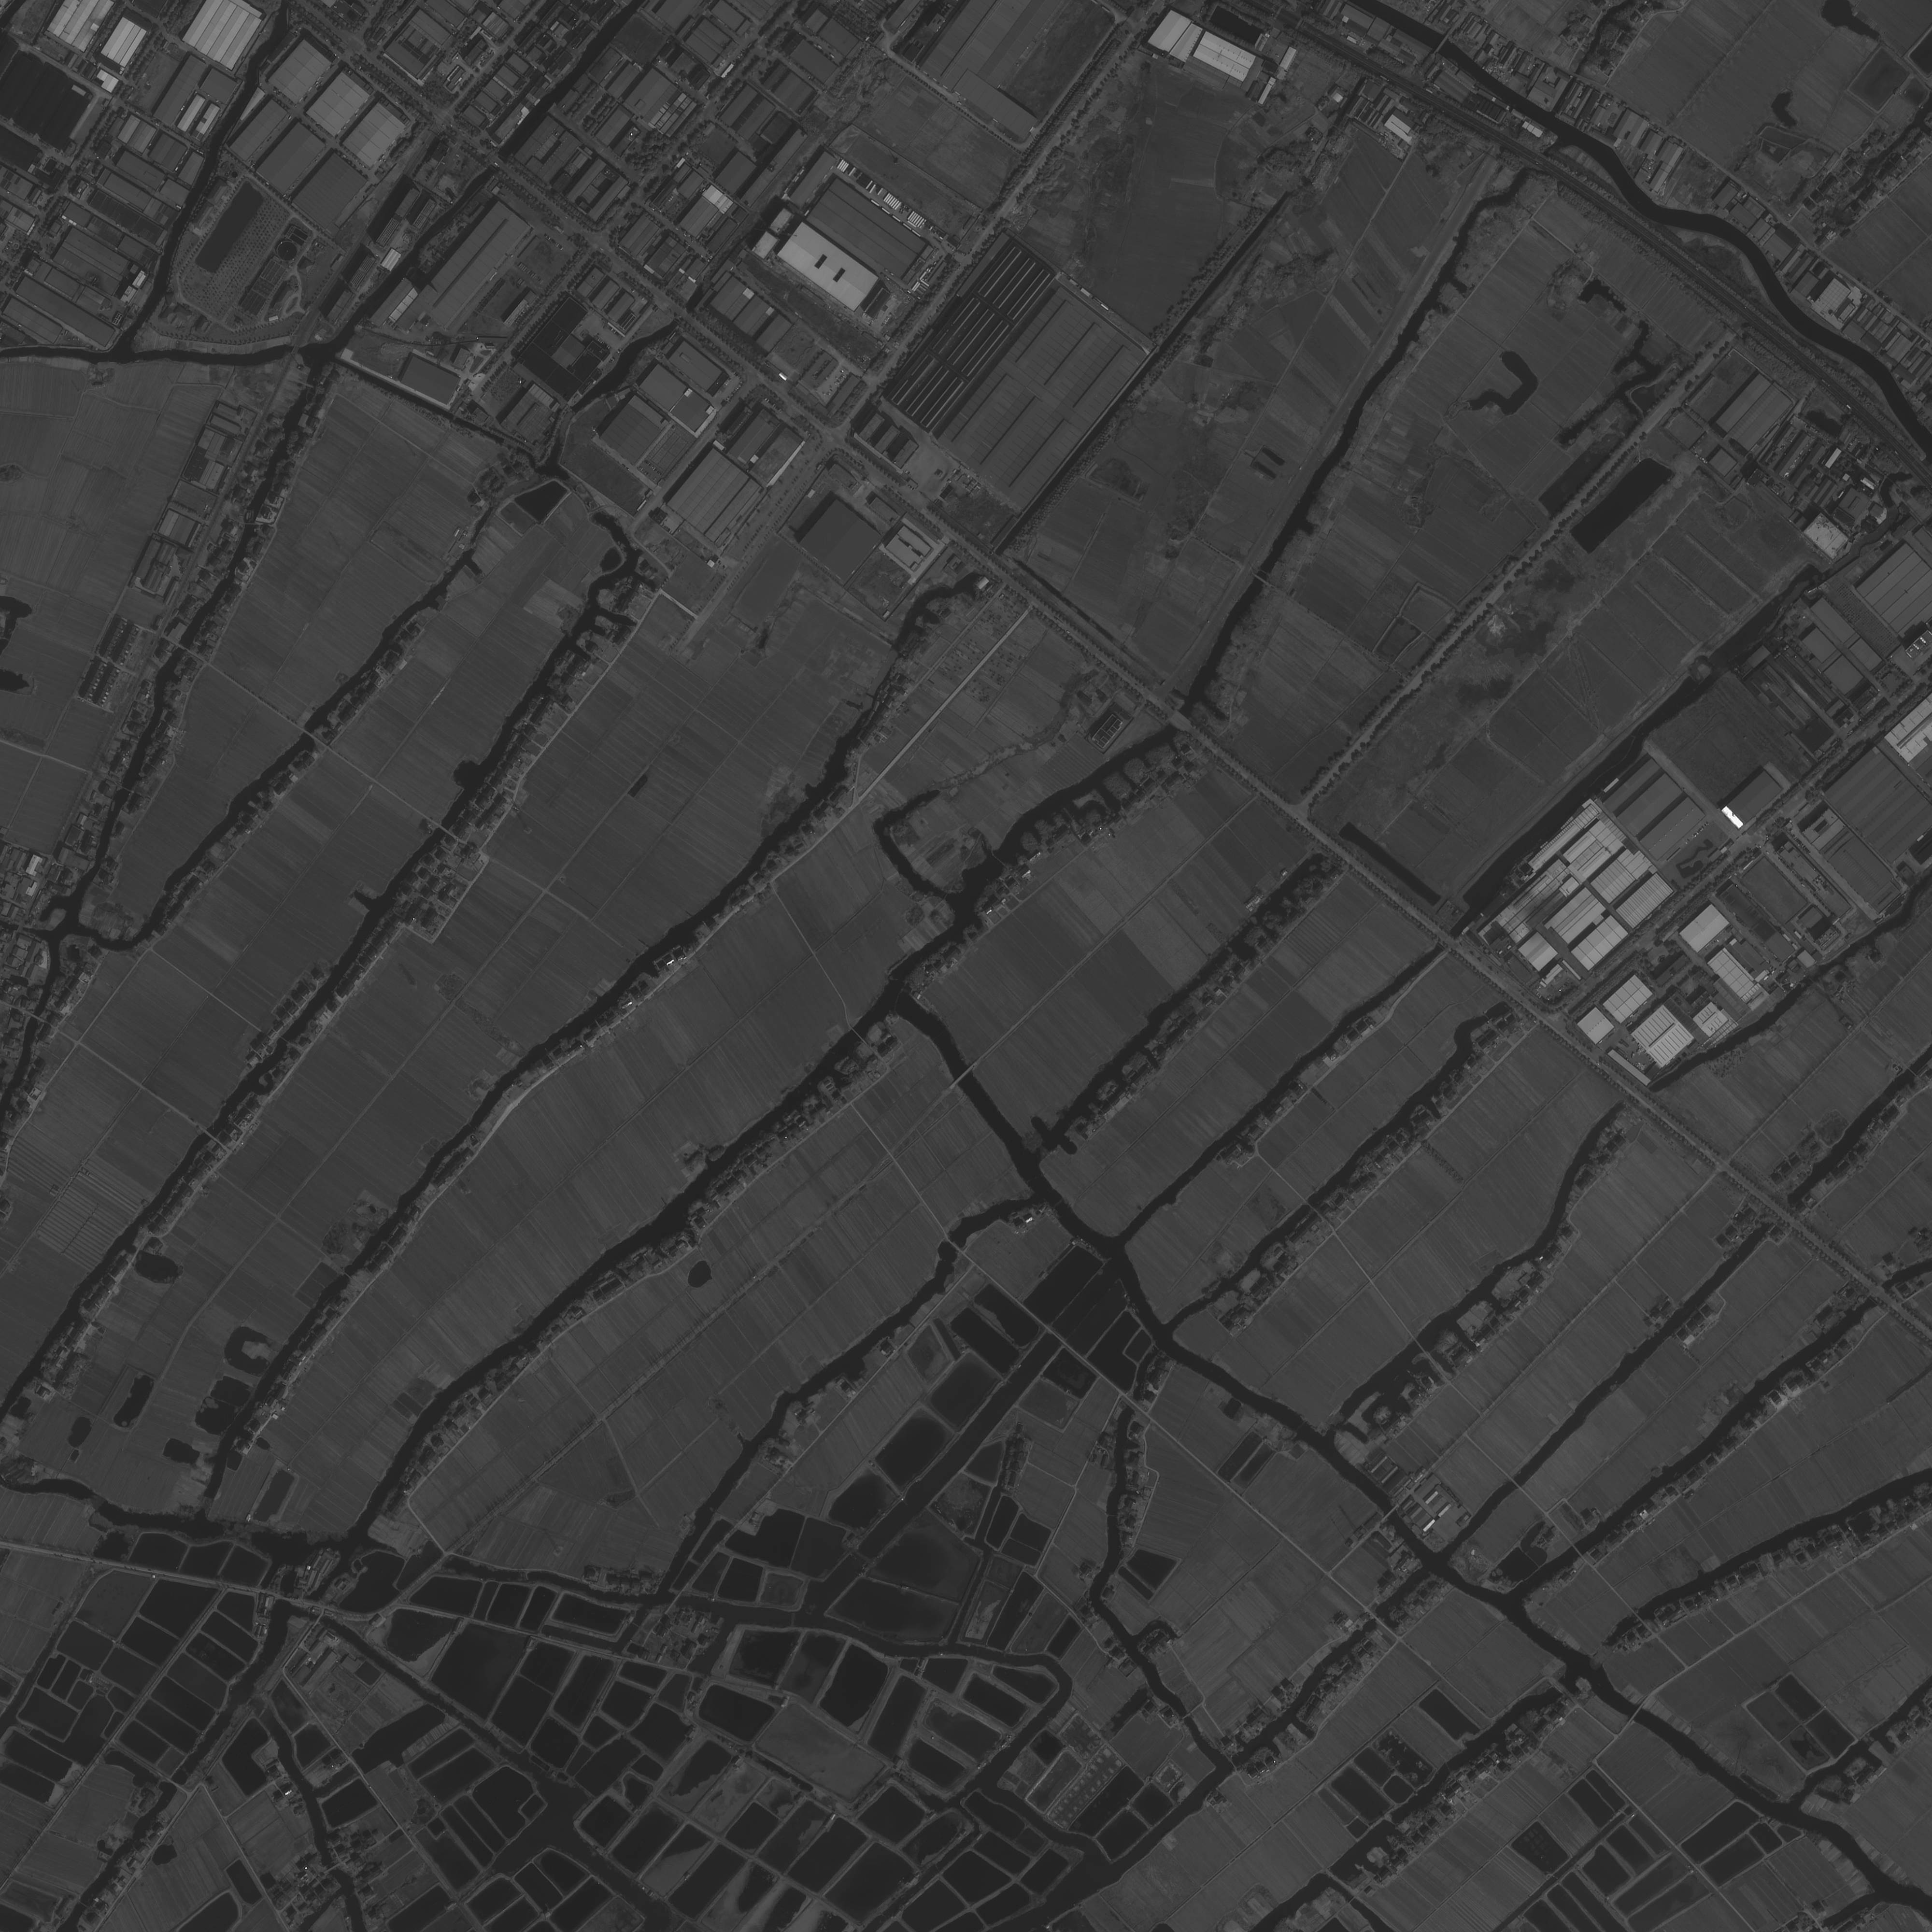bridge: (1169, 711, 1198, 738), (1769, 1203, 1794, 1226), (1870, 1284, 1891, 1304), (954, 1067, 973, 1085), (1438, 932, 1456, 950), (1629, 1702, 1645, 1721), (1435, 34, 1449, 55), (851, 1026, 865, 1042), (490, 156, 506, 170), (671, 1591, 685, 1606), (1384, 1506, 1399, 1520), (435, 823, 451, 835), (1571, 1543, 1583, 1559), (203, 1129, 216, 1141), (301, 729, 315, 740), (168, 1778, 180, 1789), (276, 1594, 290, 1603), (175, 644, 188, 653), (290, 343, 299, 356)
